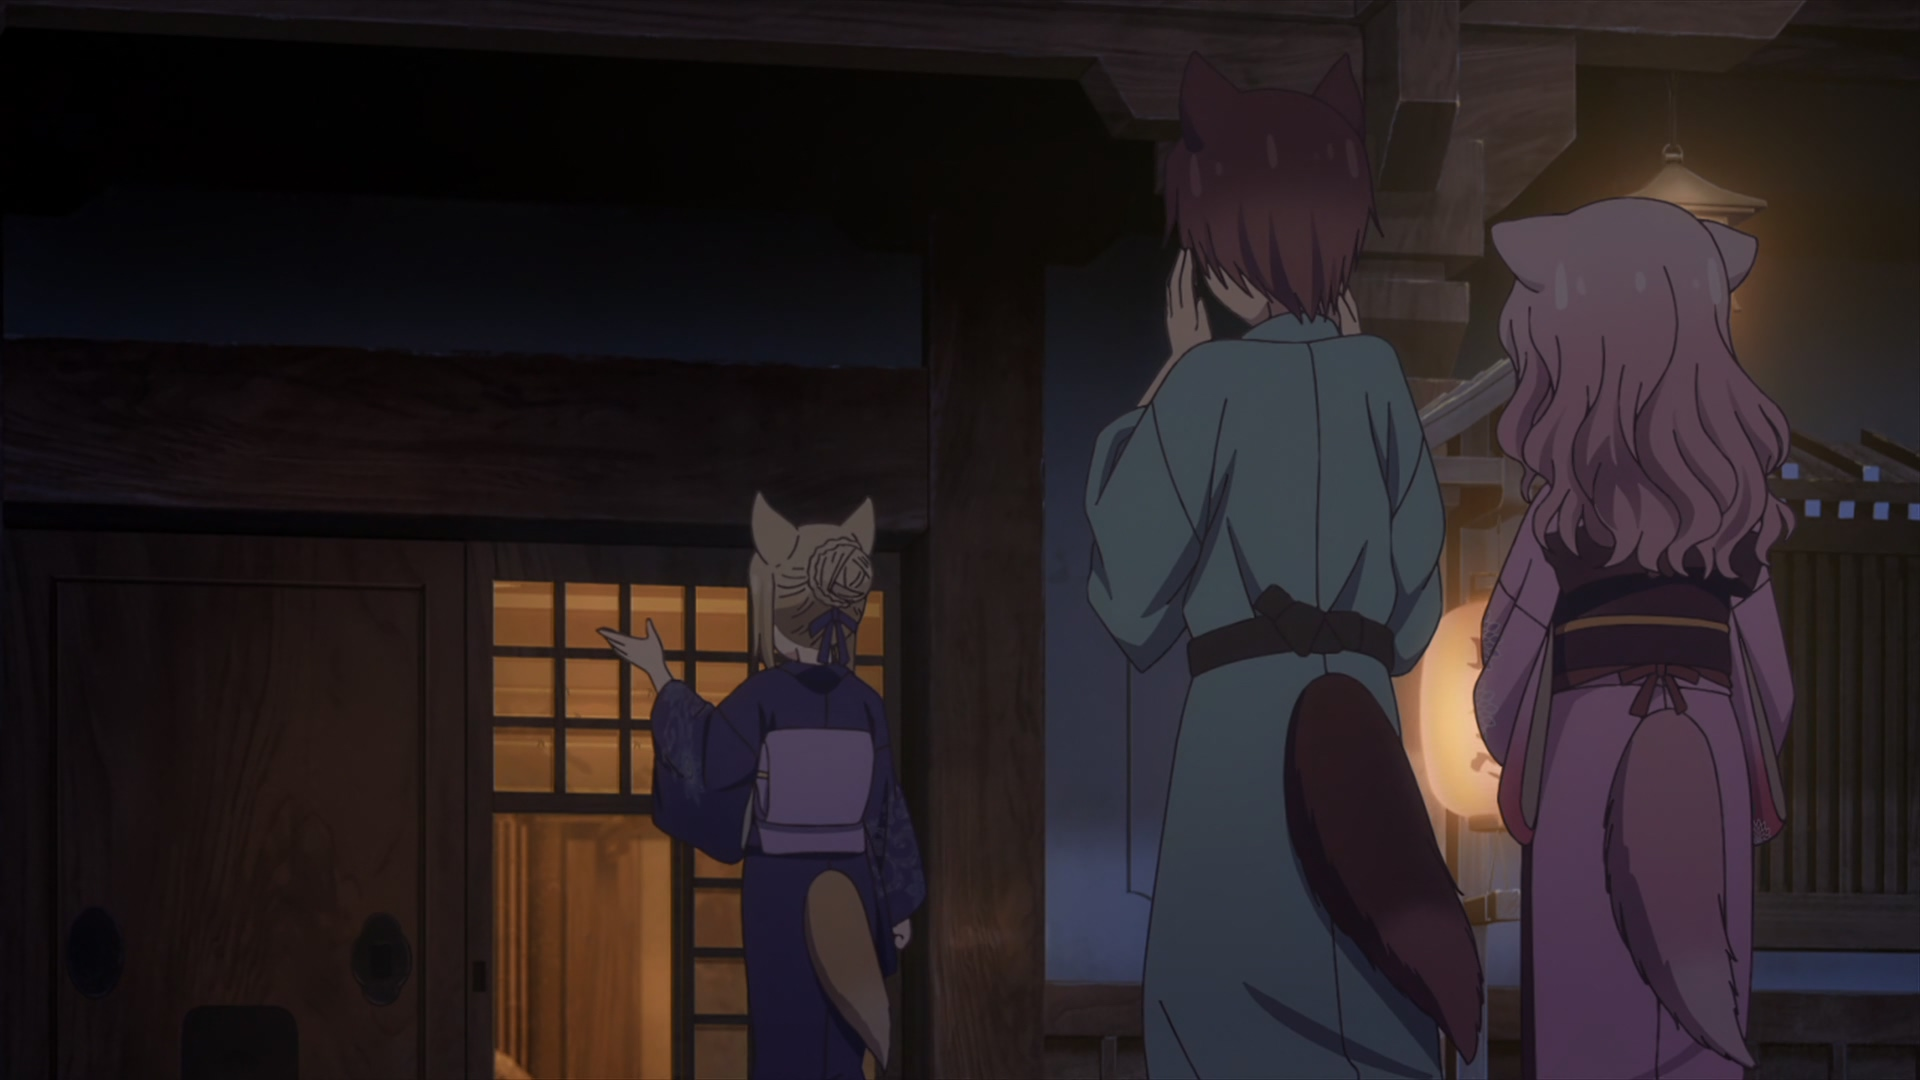枣: (1083, 53, 1486, 1080)
桐: (597, 489, 928, 1080)
莲: (1469, 196, 1797, 1080)
